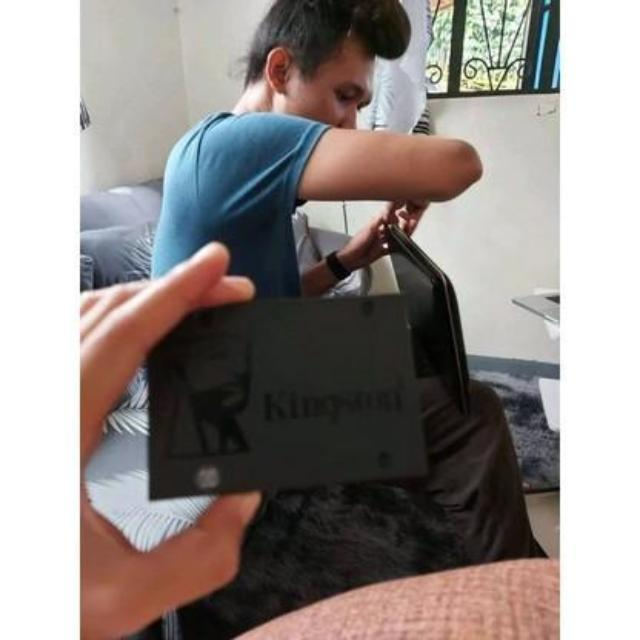DISK: (126, 293, 443, 498)
